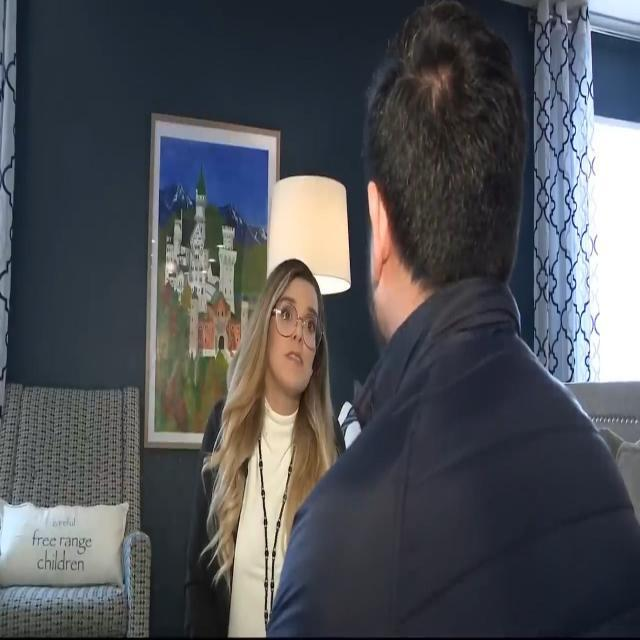non-fight: (351, 14, 618, 640), (202, 199, 344, 640)
